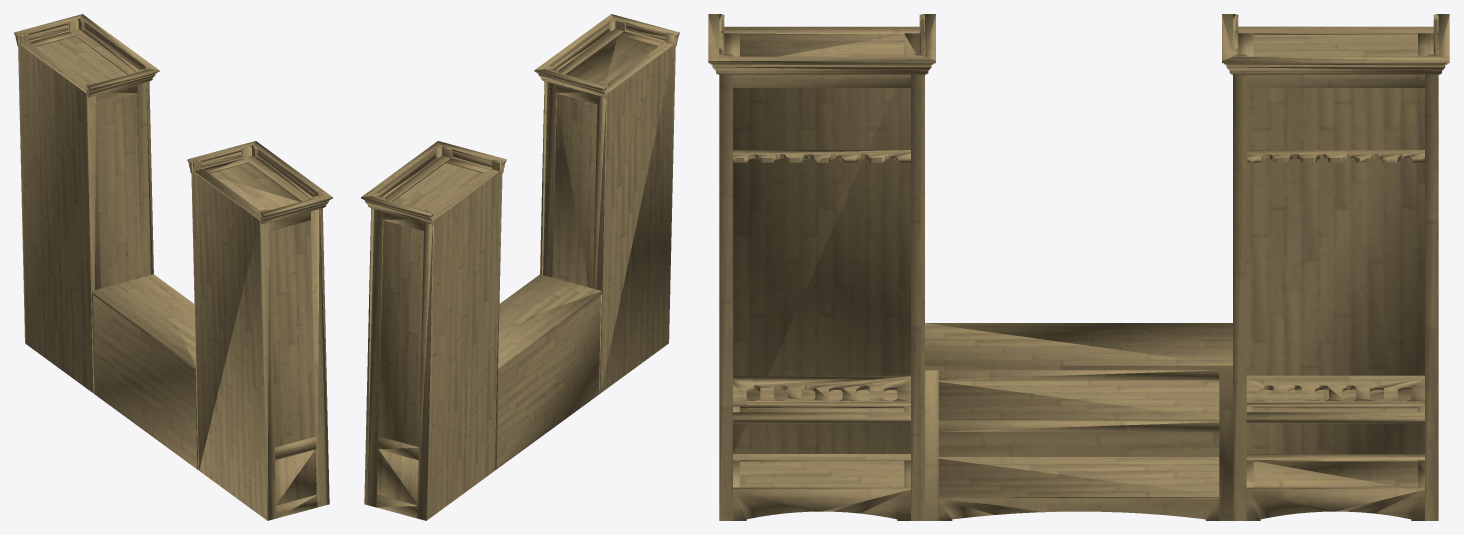
3 renders of one model, left to right at view 1: azimuth 30°, elevation 25°; view 2: azimuth 150°, elevation 25°; view 3: azimuth 270°, elevation 25°, orthographic. The views are drawn at different scales.
Visible parts, largest first — view 1: visuals; view 2: visuals; view 3: visuals.
Boxes of the visible parts, box(x1,y1,x2,y2) form: visuals: box(14, 14, 332, 520); visuals: box(361, 14, 679, 520); visuals: box(708, 14, 1449, 520).
Size of the model in its own units: 0.1932 by 0.8325 by 1.21.
1 material, 1 textured.
